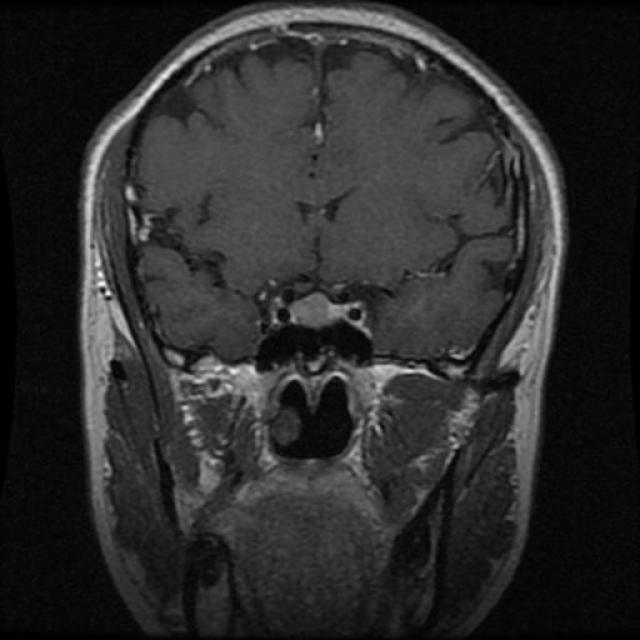pituitary: (252, 274, 378, 350)
